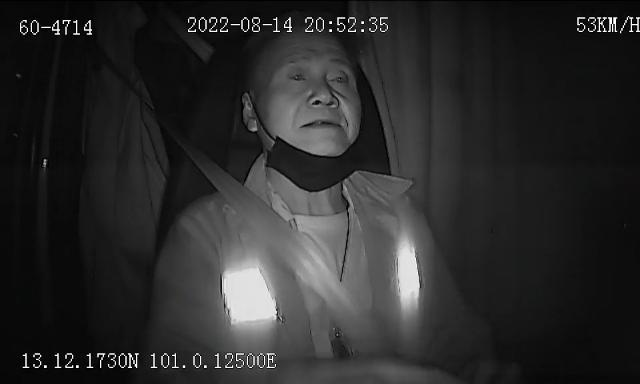SafeDriving: (281, 62, 313, 90), (322, 64, 354, 90)
Seatbelt: (157, 118, 385, 360)
